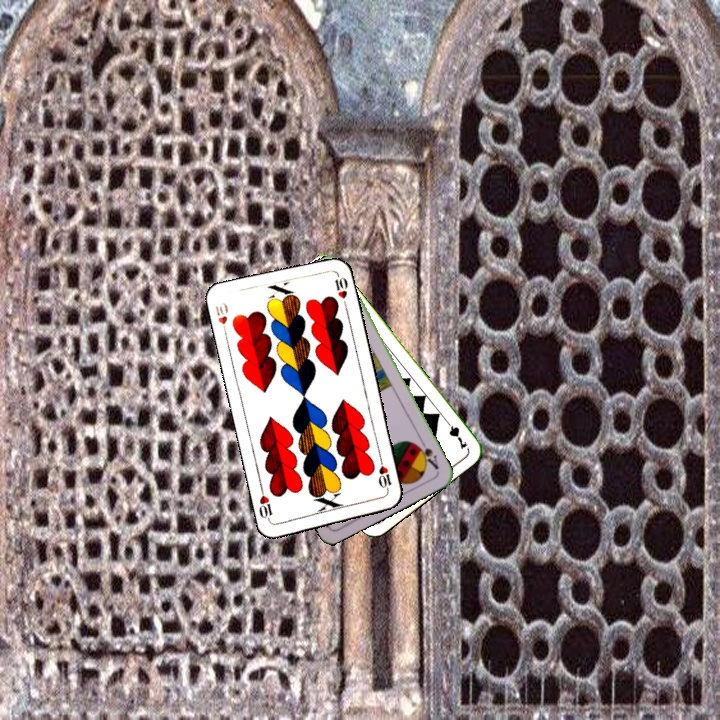G7: (440, 414, 470, 452)
H10: (211, 298, 231, 339), (374, 455, 394, 495)
SA: (412, 435, 441, 472)
